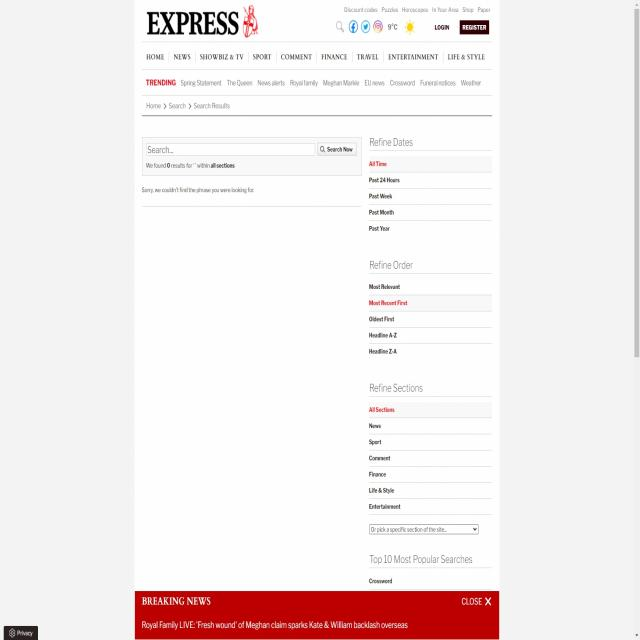menu-panel: (142, 40, 497, 94)
search: (140, 134, 361, 176)
side-panel: (366, 125, 496, 588)
